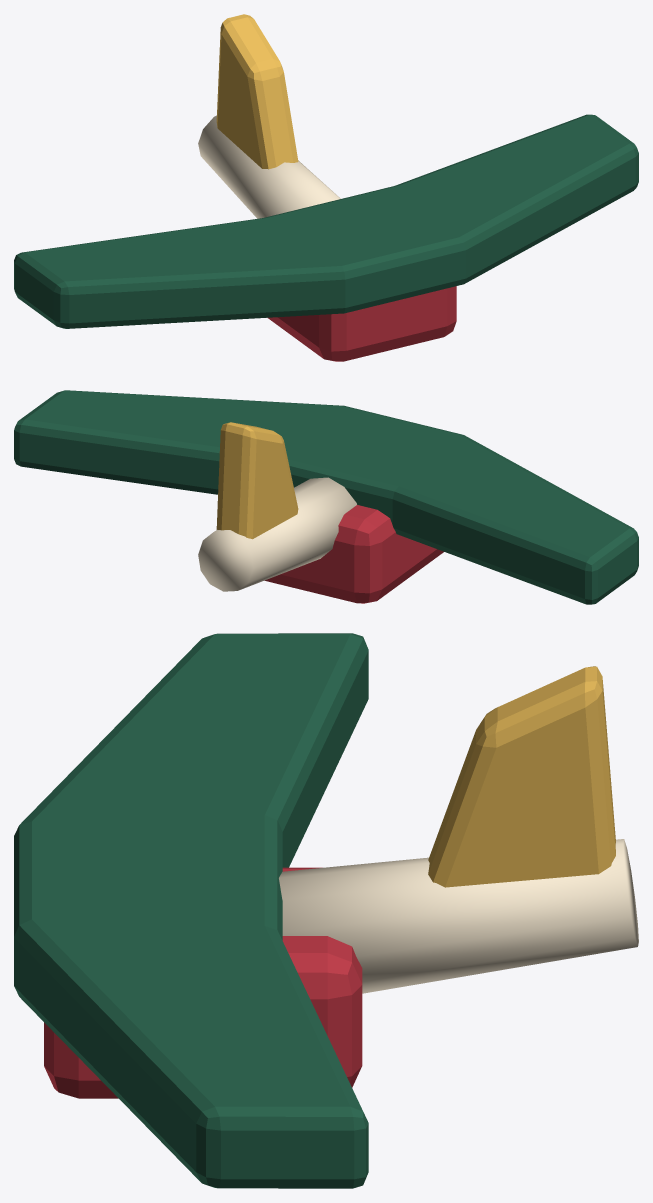
File: ACC_TH_AVIATION_Primary.fbx
The picture shows the model from 3 angles, top to bottom: view 1: azimuth 30°, elevation 25°; view 2: azimuth 150°, elevation 25°; view 3: azimuth 270°, elevation 25°; orthographic projection. The views are drawn at different scales.
Visible parts, largest first — view 1: ACC_TH_AVIATION_Primary; view 2: ACC_TH_AVIATION_Primary; view 3: ACC_TH_AVIATION_Primary.
Boxes of the visible parts, x1,y1,x2,y2 form: ACC_TH_AVIATION_Primary: (14, 14, 638, 361); ACC_TH_AVIATION_Primary: (14, 390, 638, 604); ACC_TH_AVIATION_Primary: (14, 633, 638, 1188).
Size of the model in its own units: 116 by 42.28 by 62.8.
